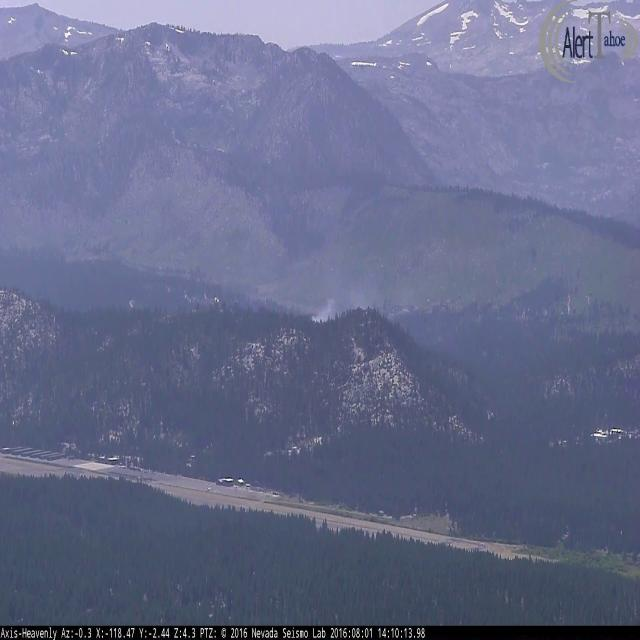smoke: (306, 256, 413, 327)
